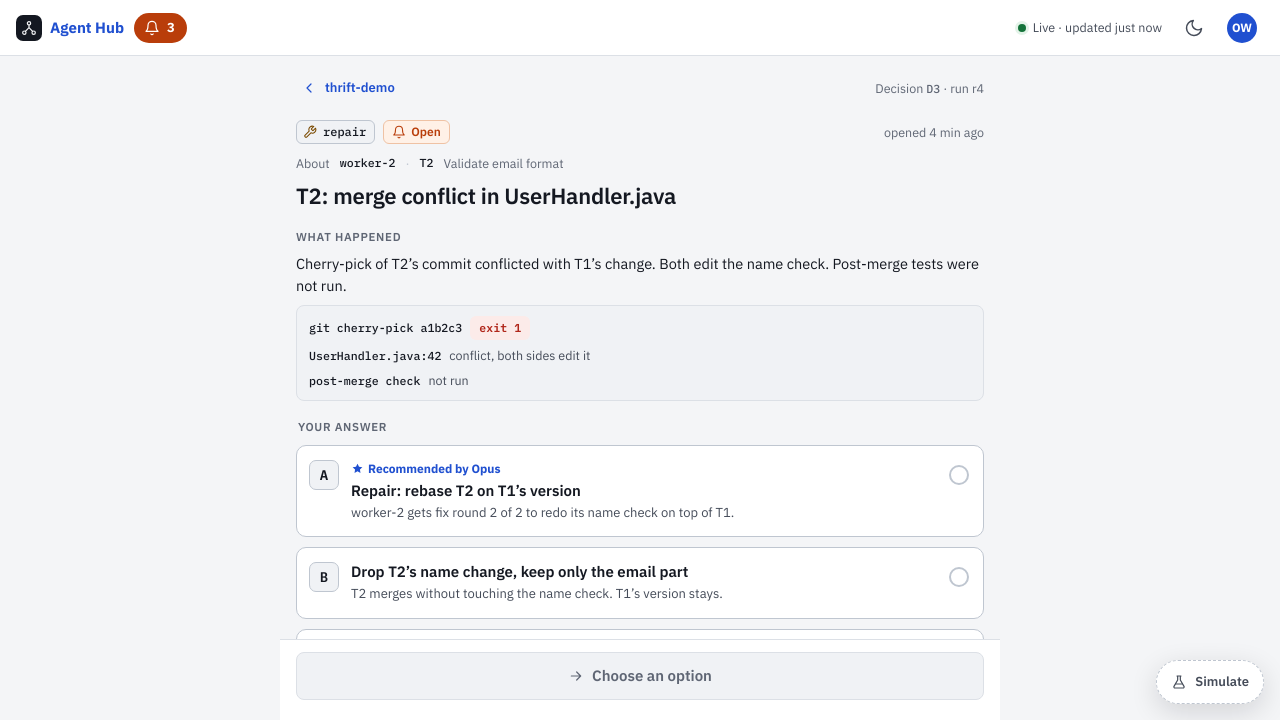
Decision screen › confirms, sends, and shows the status stepper
The width and height of the screenshot is (1280, 720).
Click the radio button labelled "Drop T2’s name change": click(640, 583) left=296, top=547, right=984, bottom=618
(page scrolled)
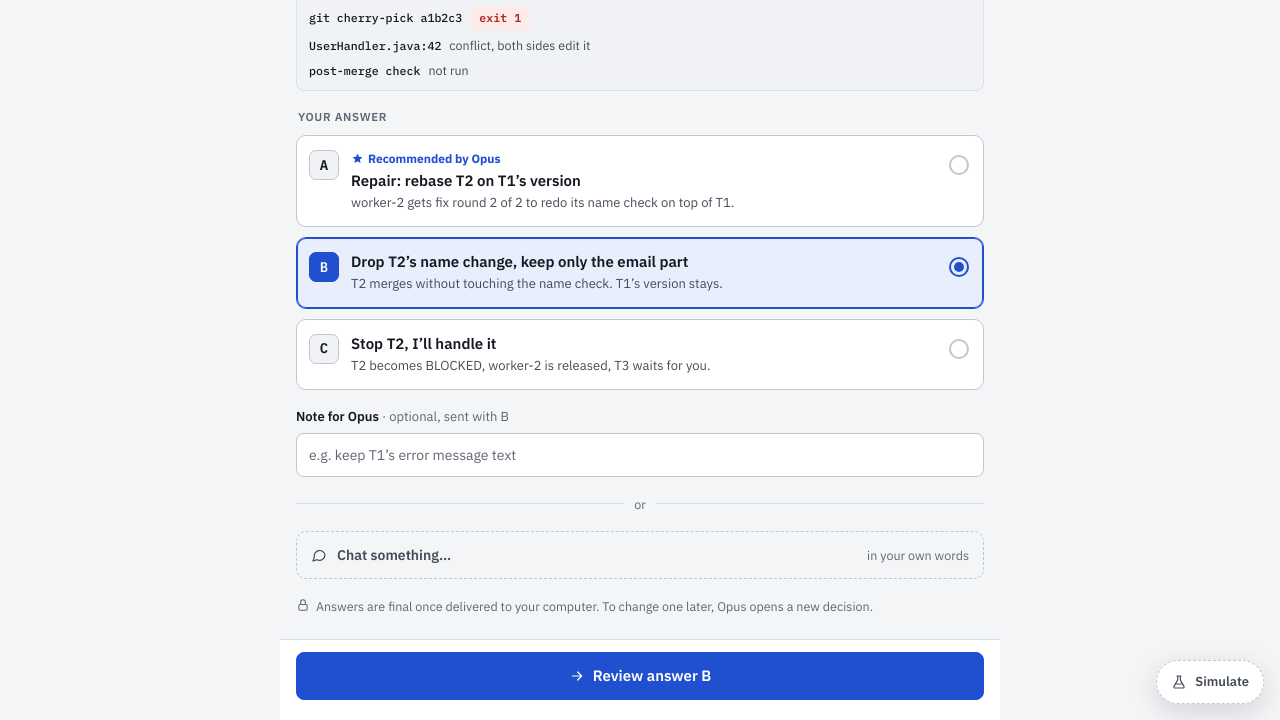
In the field labelled "Note for Opus · optional, sent with B": (640, 455) left=296, top=433, right=984, bottom=477, type "keep wording"
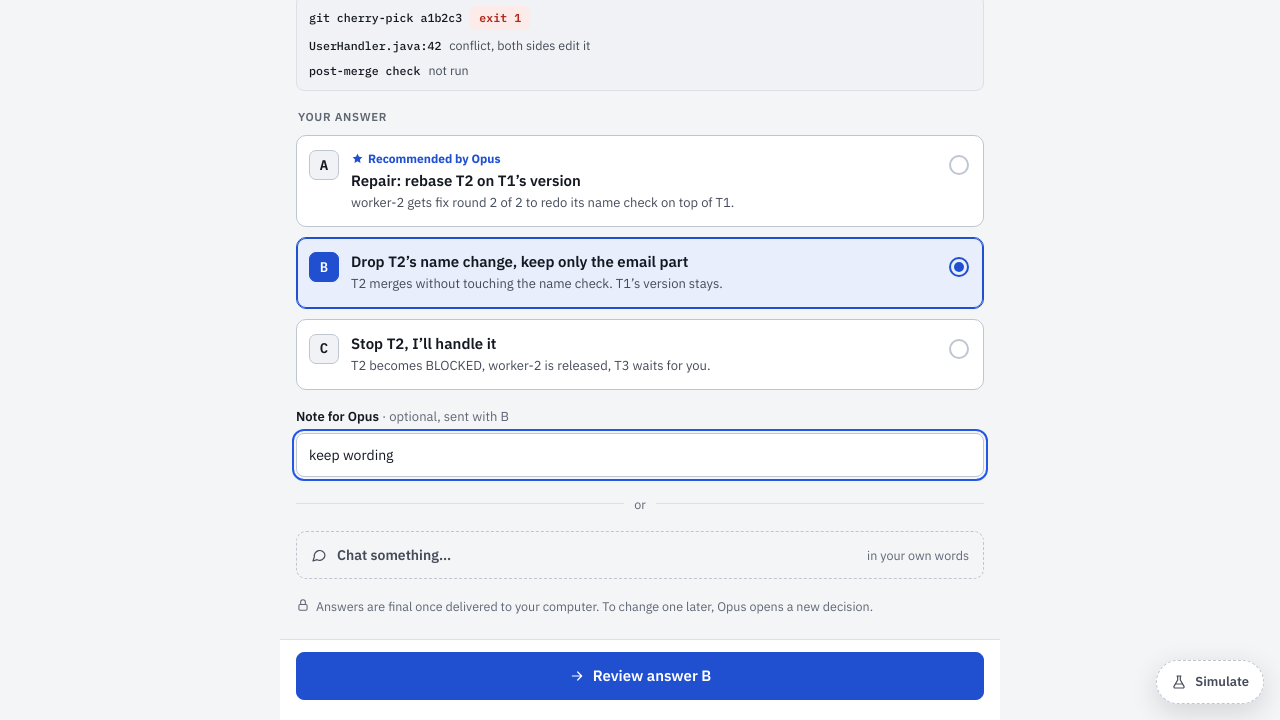
Click the button "Review answer B": click(640, 676) left=296, top=652, right=984, bottom=700
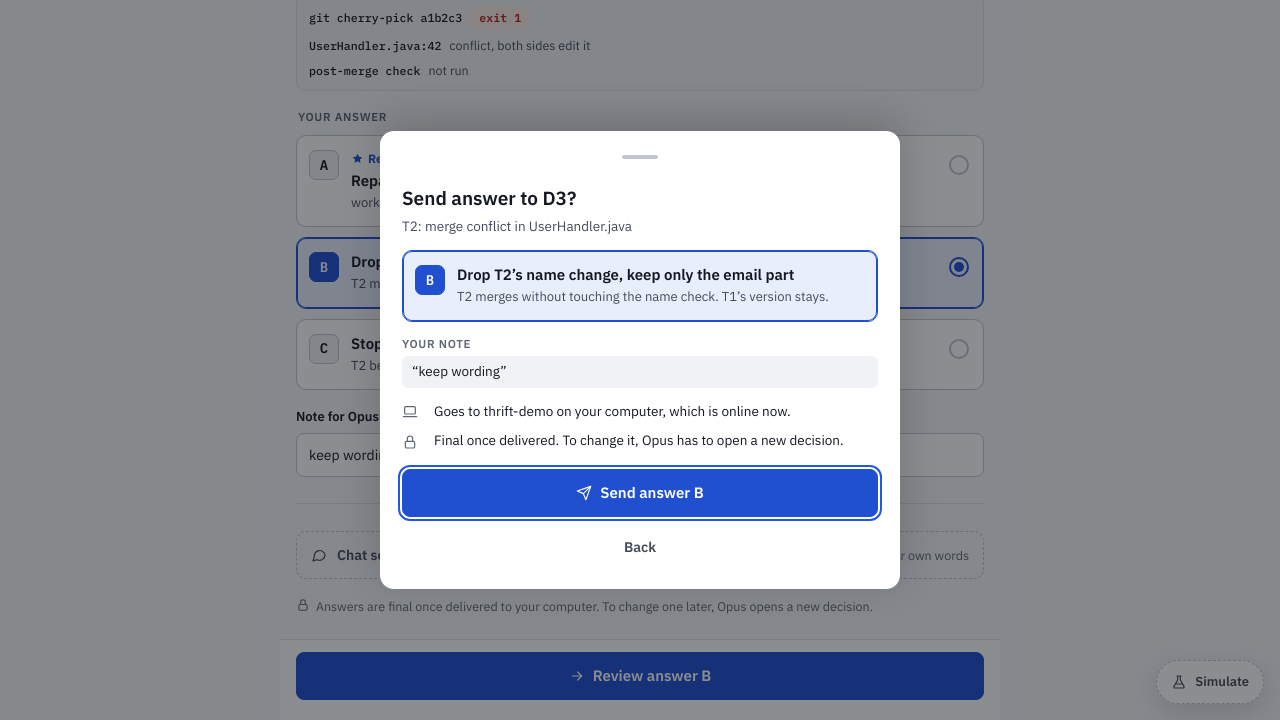
Result: the text "“keep wording”" is shown at left=402, top=356, right=878, bottom=388
Click the button "Send answer B": click(640, 493) left=402, top=469, right=878, bottom=517
(page scrolled)
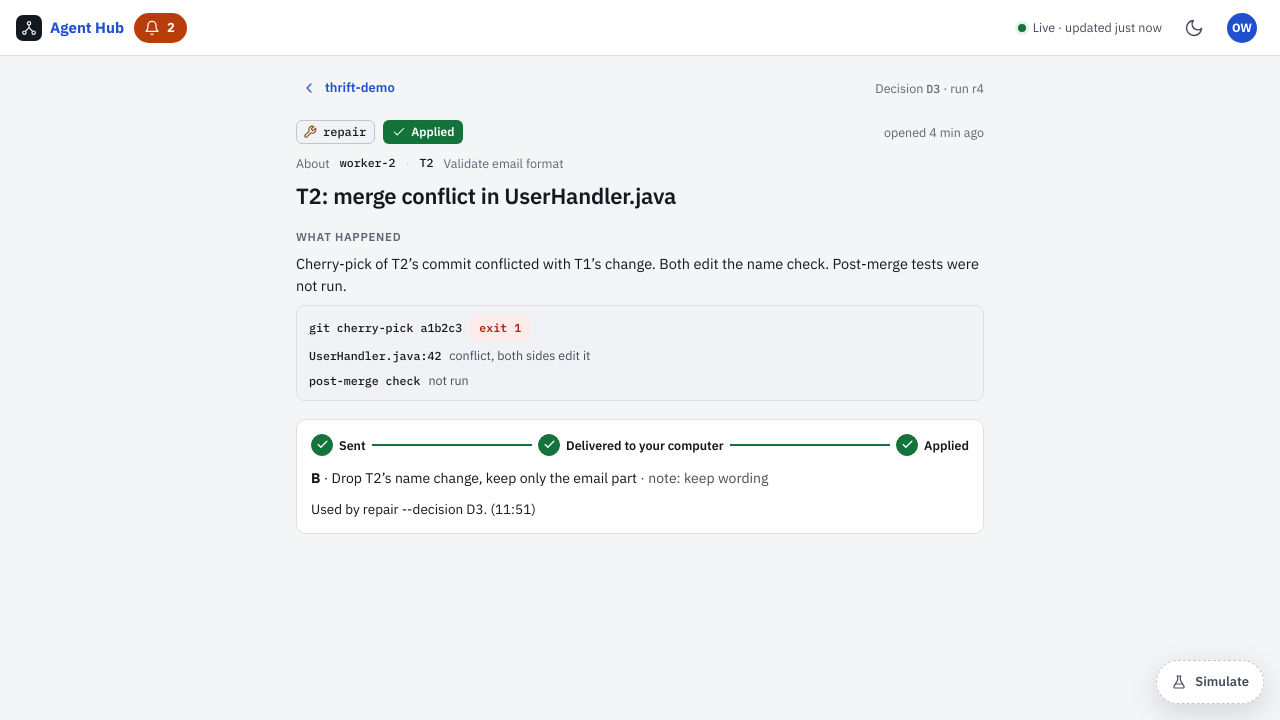
Result: the dialog is gone
Result: the list named "Delivery status" is shown at left=311, top=434, right=969, bottom=456
